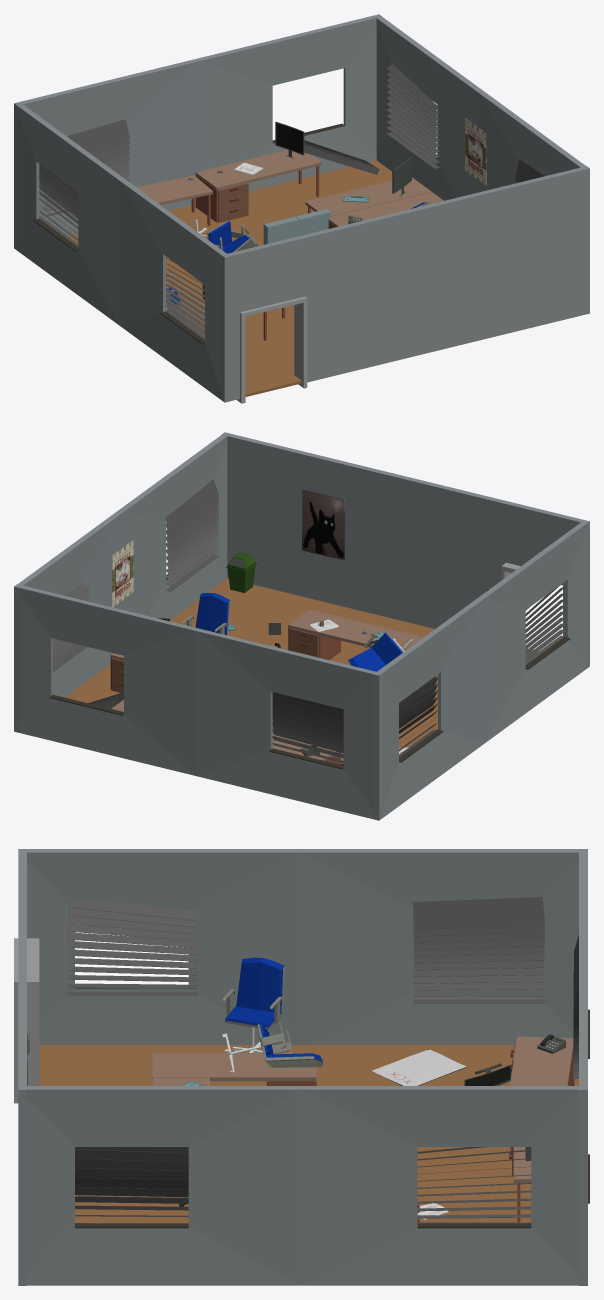
The model's file is Piso2.fbx.
The picture shows the model from 3 angles, top to bottom: view 1: azimuth 30°, elevation 25°; view 2: azimuth 150°, elevation 25°; view 3: azimuth 270°, elevation 25°; orthographic projection. The views are drawn at different scales.
Parts seen in each view (by area): view 1: Cube.003, Cube.033, Cube.016, Plane, Cube.001, Cube.018, Plane.012, Cube.014, Cube.019, Cube.034, Cube.015, Plane.006 (+4 smaller); view 2: Cube.033, Cube.003, Cube.016, Plane, Cube.001, Plane.012, Cube.017, Plane.003, Cube.021, Cube.024, Plane.006, Cube.020 (+2 smaller); view 3: Plane, Cube.016, Cube.001, Cube.003, Cube.033, Cube.013, Cube.023, Cube.019, Plane.014, Cube.024, Plane.012, Cube.018 (+1 smaller).
Part boxes in pixels (box(x1,y1,x2,y2)): Cube.003: box(221, 166, 589, 403); Cube.033: box(15, 14, 381, 247); Cube.016: box(14, 102, 230, 399); Plane: box(373, 14, 585, 200); Cube.001: box(67, 160, 392, 396); Cube.018: box(195, 149, 321, 222); Plane.012: box(43, 119, 129, 216); Cube.014: box(305, 177, 431, 216); Cube.019: box(137, 175, 212, 225); Cube.034: box(263, 209, 331, 244); Cube.015: box(328, 192, 443, 228); Plane.006: box(465, 118, 486, 185); Cube.033: box(14, 584, 382, 819); Cube.003: box(221, 432, 589, 668); Cube.016: box(373, 522, 586, 820); Plane: box(14, 435, 227, 732); Cube.001: box(65, 578, 538, 763); Plane.012: box(272, 692, 343, 763); Cube.017: box(288, 609, 414, 659); Plane.003: box(302, 489, 344, 560); Cube.021: box(182, 593, 230, 635); Cube.024: box(348, 632, 412, 671); Plane.006: box(112, 540, 133, 607); Cube.020: box(226, 552, 256, 592); Plane: box(27, 1086, 587, 1285); Cube.016: box(27, 849, 587, 1044); Cube.001: box(39, 1045, 578, 1223); Cube.003: box(14, 849, 39, 1285); Cube.033: box(579, 852, 589, 1285); Cube.013: box(152, 1053, 316, 1085); Cube.023: box(222, 957, 284, 1052); Cube.019: box(510, 1036, 574, 1151); Plane.014: box(372, 1049, 466, 1085); Cube.024: box(222, 1021, 322, 1072); Plane.012: box(573, 934, 578, 1078); Cube.018: box(509, 1147, 531, 1222).
Size of the model in its own units: 2015 by 976 by 2024.
Materials: 69 (10 with a texture image).
